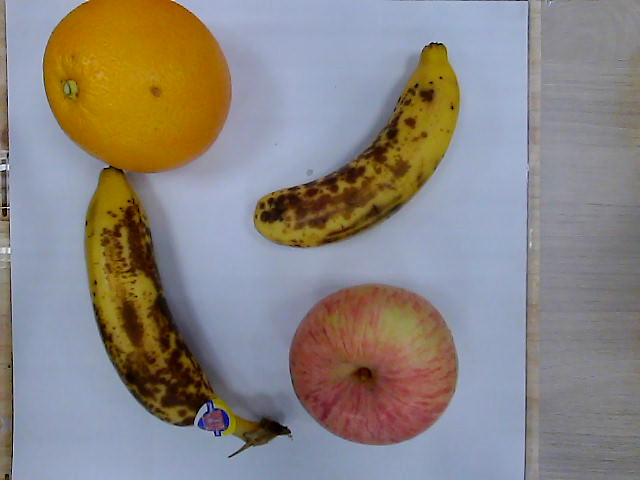fresh_apple: (291, 285, 455, 446)
fresh_orange: (42, 1, 233, 171)
rotten_banana: (86, 167, 290, 451), (256, 44, 462, 248)
